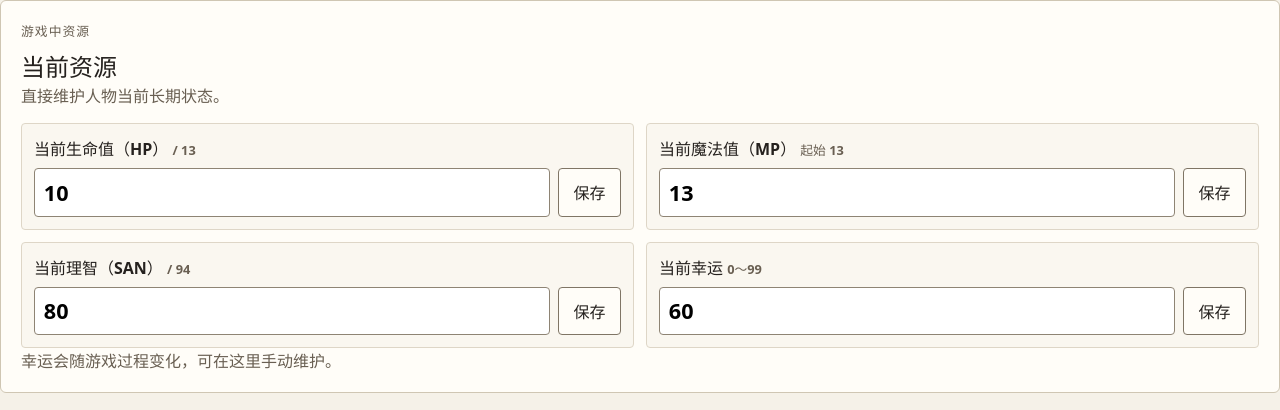
Scenario: Final Sheet resource workspace rendered interactions › 同一 workspace 切换到另一人物时同步全部 drafts，不保留上一个人物输入
The width and height of the screenshot is (1280, 410).
Replace the text in the number field with id "sheet-current-hp" with "12" at point(292, 192), box 34,168 -> 550,217
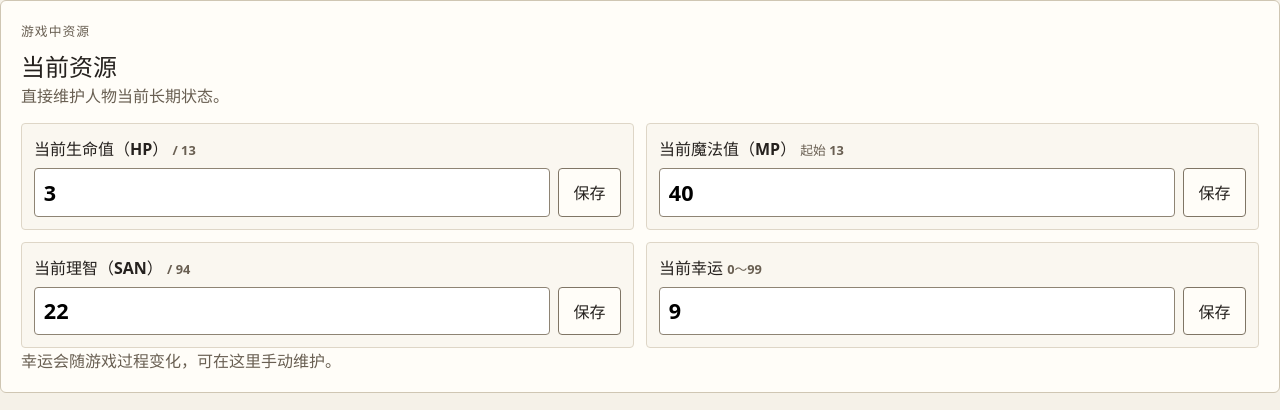
Now the number field with id "sheet-current-hp" holds "3", box 34,168 -> 550,217
Now the number field with id "sheet-current-mp" holds "40", box 659,168 -> 1175,217
Now the number field with id "sheet-current-san" holds "22", box 34,287 -> 550,335
